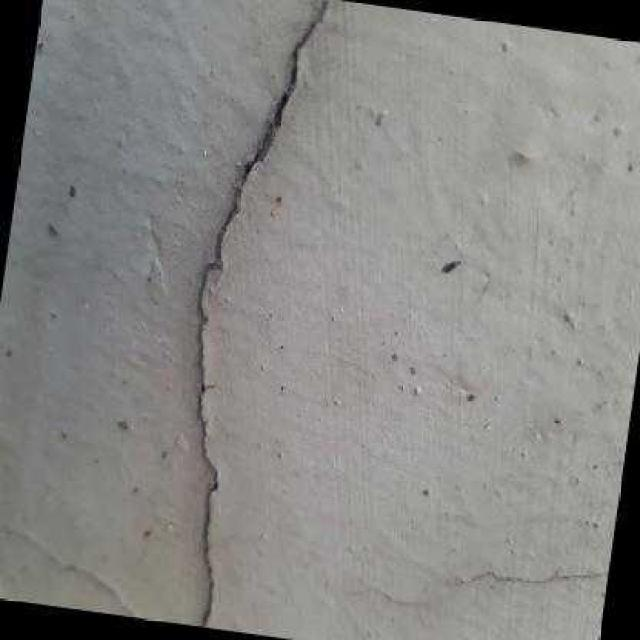D00: (196, 0, 327, 627)
